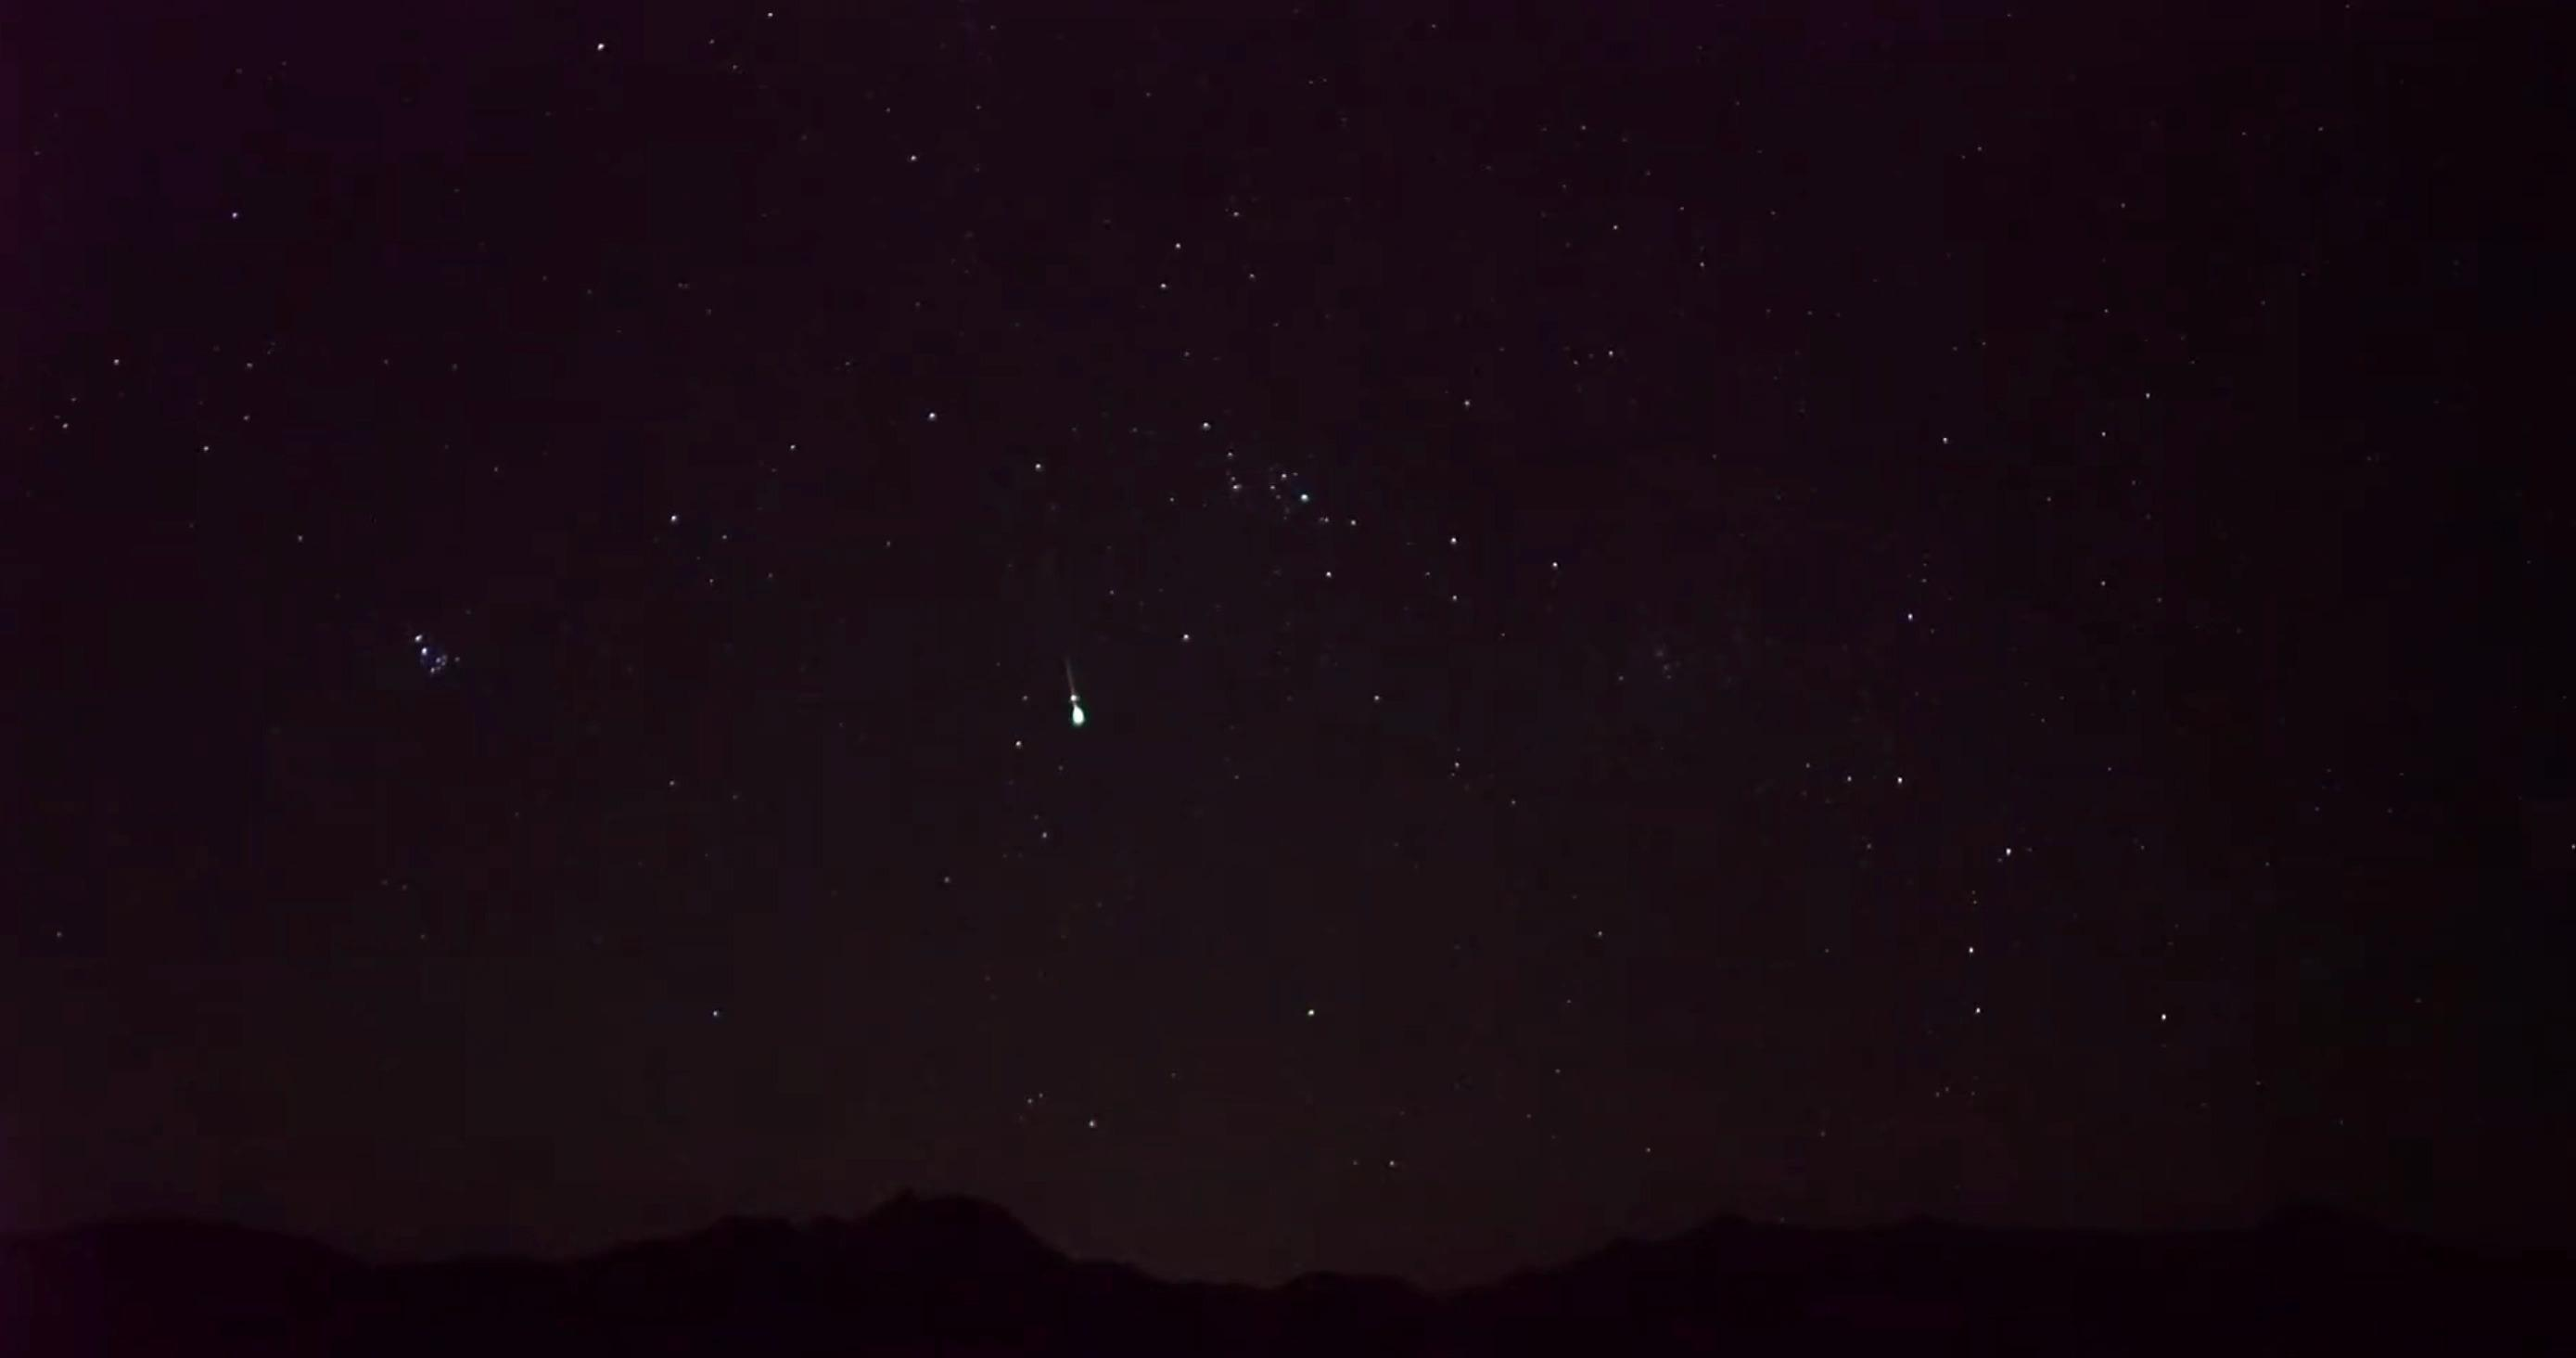meteorite: (1019, 641, 1140, 741)
